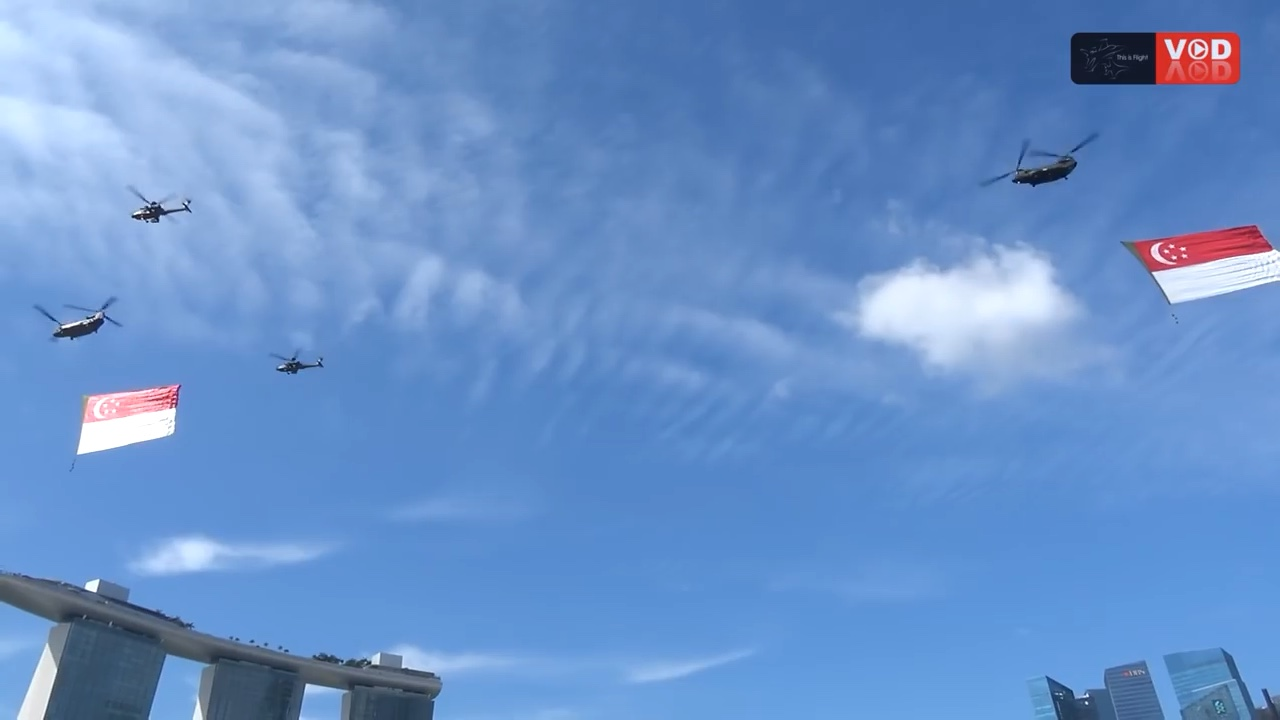ah64: (122, 177, 196, 226), (264, 345, 329, 378)
chinook: (974, 131, 1106, 192), (28, 295, 126, 342)
